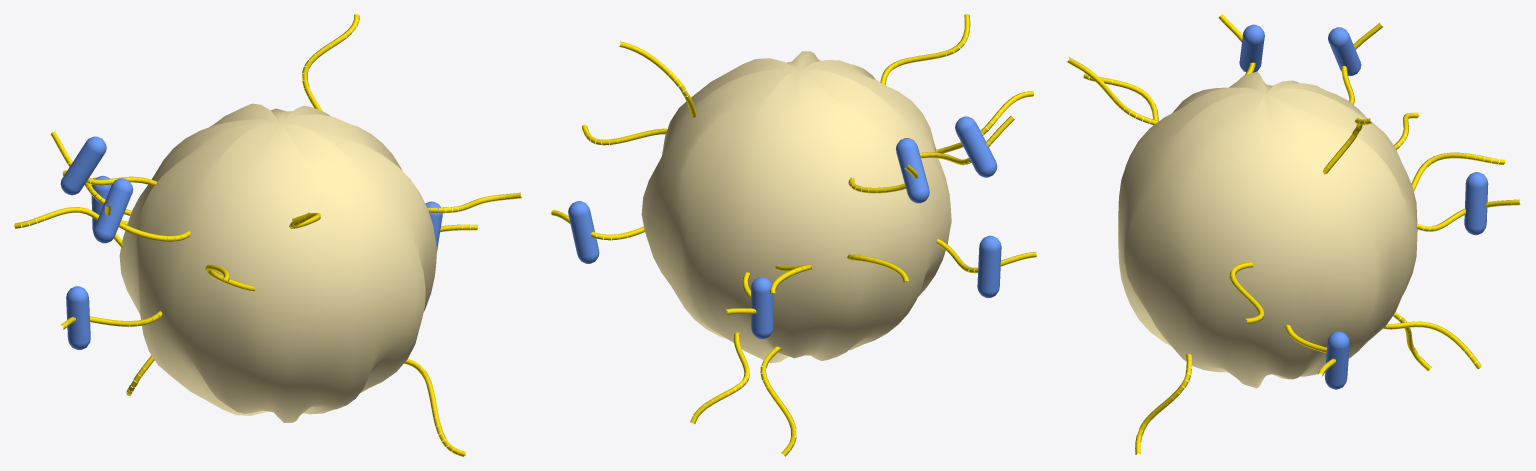
File: neutrophil.glb
3 renders of one model, left to right at view 1: azimuth 30°, elevation 25°; view 2: azimuth 150°, elevation 25°; view 3: azimuth 270°, elevation 25°, orthographic. The views are drawn at different scales.
Size of the model in its own units: 2 by 1.46 by 1.74.
